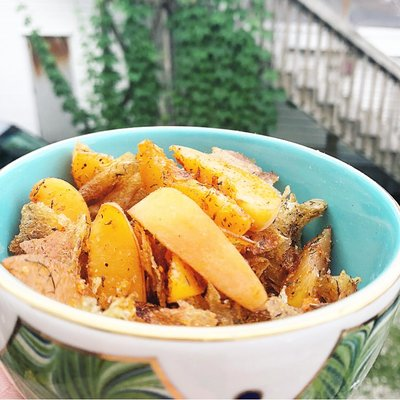sushi: (24, 101, 400, 399)
